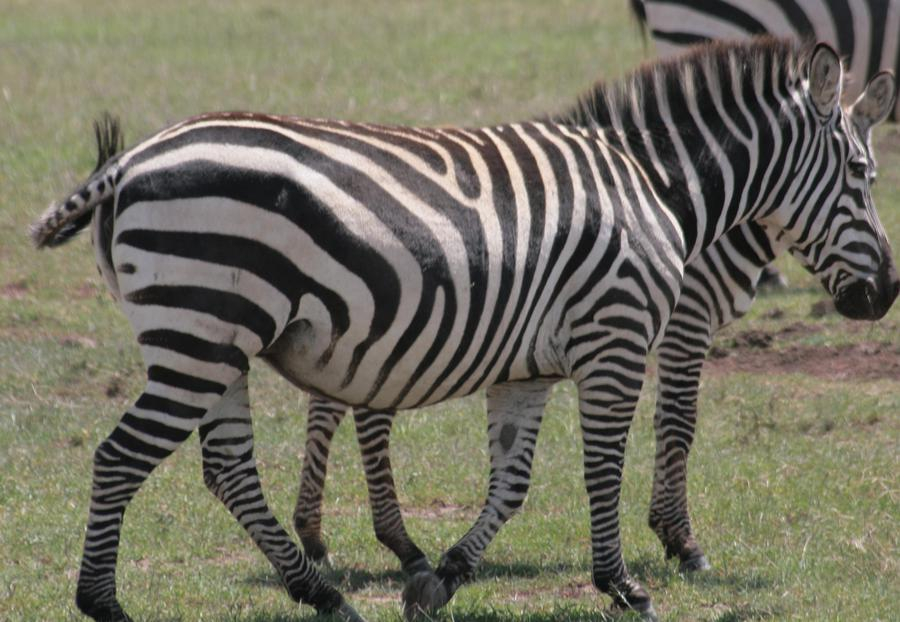zebra_plains: (151, 114, 641, 385)
